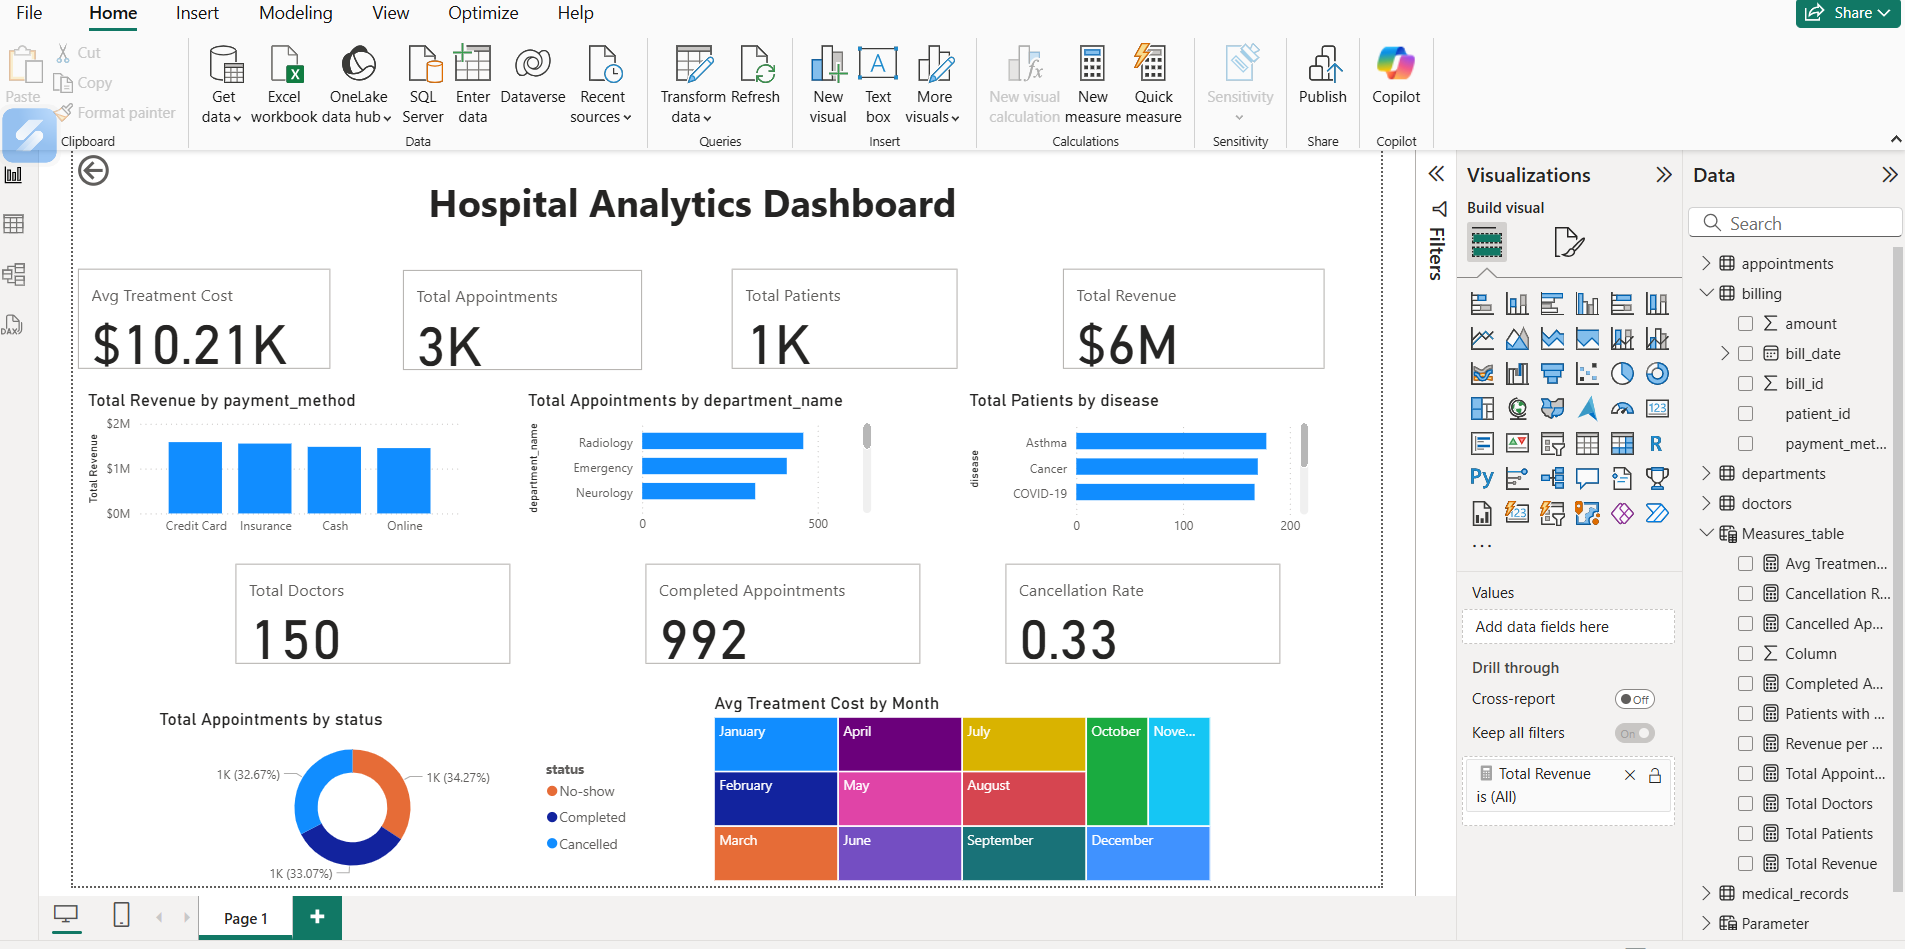

The dashboard page shown, as its layout file describes it:
{"tool":"powerbi","page":{"name":"Page 1","canvas":[1280,720],"ordinal":0},"visuals":[{"type":"cardVisual","fields":{"Data":["Measures_table.Avg Treatment Cost"]},"box":[0,111.1,258,108.4],"z":0},{"type":"cardVisual","fields":{"Data":["Measures_table.Total Appointments"]},"box":[318.4,112.5,244.3,108.4],"z":1},{"type":"cardVisual","fields":{"Data":["Measures_table.Total Doctors"]},"box":[153.7,399.3,279.9,108.4],"z":2},{"type":"cardVisual","fields":{"Data":["Measures_table.Total Patients"]},"box":[639.5,111.1,231.9,108.4],"z":3},{"type":"cardVisual","fields":{"Data":["Measures_table.Total Revenue"]},"box":[963.3,111.1,266.2,108.4],"z":4},{"type":"actionButton","box":[0,0,100,40],"z":6},{"type":"clusteredColumnChart","fields":{"Category":["billing.payment_method"],"Y":["Measures_table.Total Revenue"]},"box":[9.6,234.6,374.6,150.9],"z":7},{"type":"clusteredBarChart","fields":{"Category":["departments.department_name"],"Y":["Measures_table.Total Appointments"]},"box":[440.5,234.6,345.8,149.6],"z":8},{"type":"donutChart","fields":{"Category":["appointments.status"],"Y":["Measures_table.Total Appointments"]},"box":[79.6,546.1,476.2,174.3],"z":9},{"type":"barChart","fields":{"Category":["patients.disease"],"Y":["Measures_table.Total Patients"]},"box":[871.4,234.6,341.7,150.9],"z":10},{"type":"cardVisual","fields":{"Data":["Measures_table.Completed Appointments"]},"box":[555.7,399.3,279.9,108.4],"z":11},{"type":"cardVisual","fields":{"Data":["Measures_table.Cancellation Rate"]},"box":[907,399.3,279.9,108.4],"z":12},{"type":"treemap","fields":{"Group":["billing.bill_date.Variation.Date Hierarchy.Month"],"Values":["Measures_table.Avg Treatment Cost"]},"box":[623,531,495.4,189.4],"z":13},{"type":"textbox","box":[285.4,20.6,642.2,74.1],"z":14}]}

Visuals, with their boxes on the page's 1280x720 design canvas (x1, y1, x2, y2). These are canvas units, not pixel positions in the 1905x949 screenshot, which may show the page scaled, cropped or inside an application window:
cardVisual - Measures_table.Avg Treatment Cost: 0:111:258:220
cardVisual - Measures_table.Total Appointments: 318:112:563:221
cardVisual - Measures_table.Total Doctors: 154:399:434:508
cardVisual - Measures_table.Total Patients: 640:111:871:220
cardVisual - Measures_table.Total Revenue: 963:111:1230:220
actionButton: 0:0:100:40
clusteredColumnChart - billing.payment_method x Measures_table.Total Revenue: 10:235:384:386
clusteredBarChart - departments.department_name x Measures_table.Total Appointments: 440:235:786:384
donutChart - appointments.status x Measures_table.Total Appointments: 80:546:556:720
barChart - patients.disease x Measures_table.Total Patients: 871:235:1213:386
cardVisual - Measures_table.Completed Appointments: 556:399:836:508
cardVisual - Measures_table.Cancellation Rate: 907:399:1187:508
treemap - billing.bill_date.Variation.Date Hierarchy.Month x Measures_table.Avg Treatment Cost: 623:531:1118:720
textbox: 285:21:928:95
